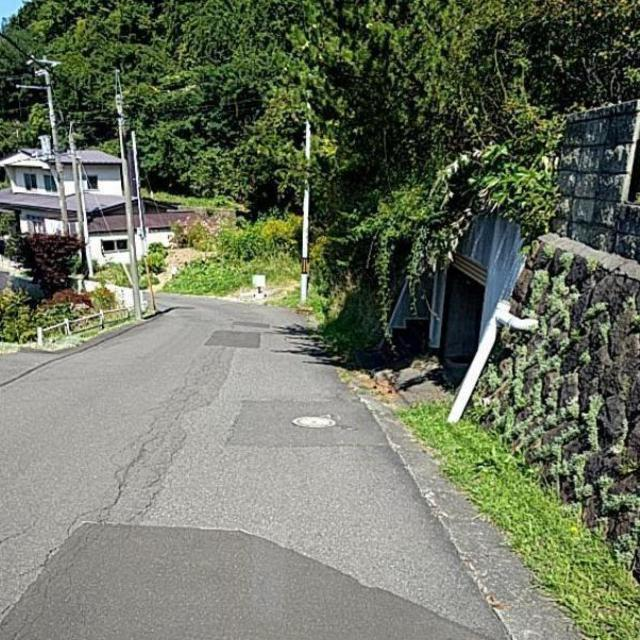Sambungan: (0, 525, 498, 640), (202, 329, 262, 350)
